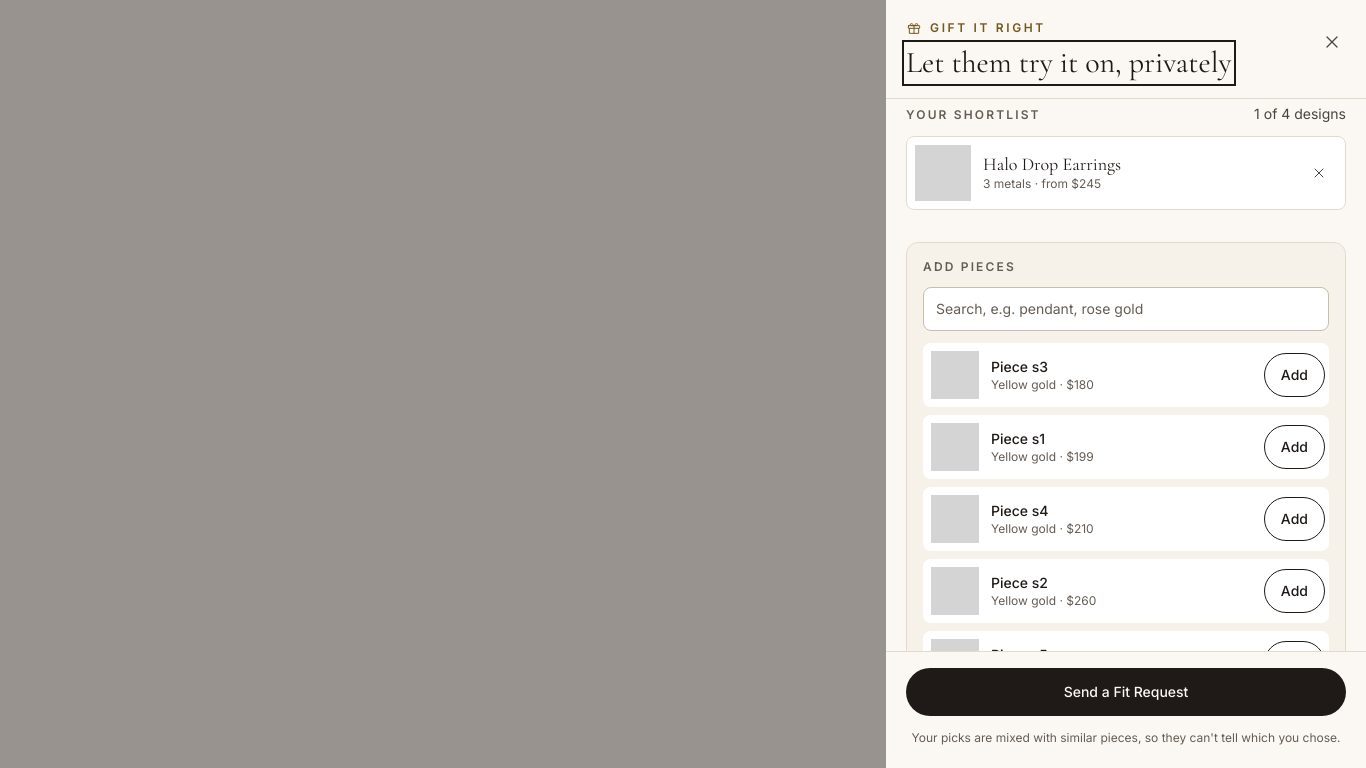
Test: GiverPanel: I have ideas › caps the shortlist at 4 designs
The image size is (1366, 768).
(page scrolled)
Click the button with test id "add-to-shortlist": (1294, 374) [1264,352,1325,396]
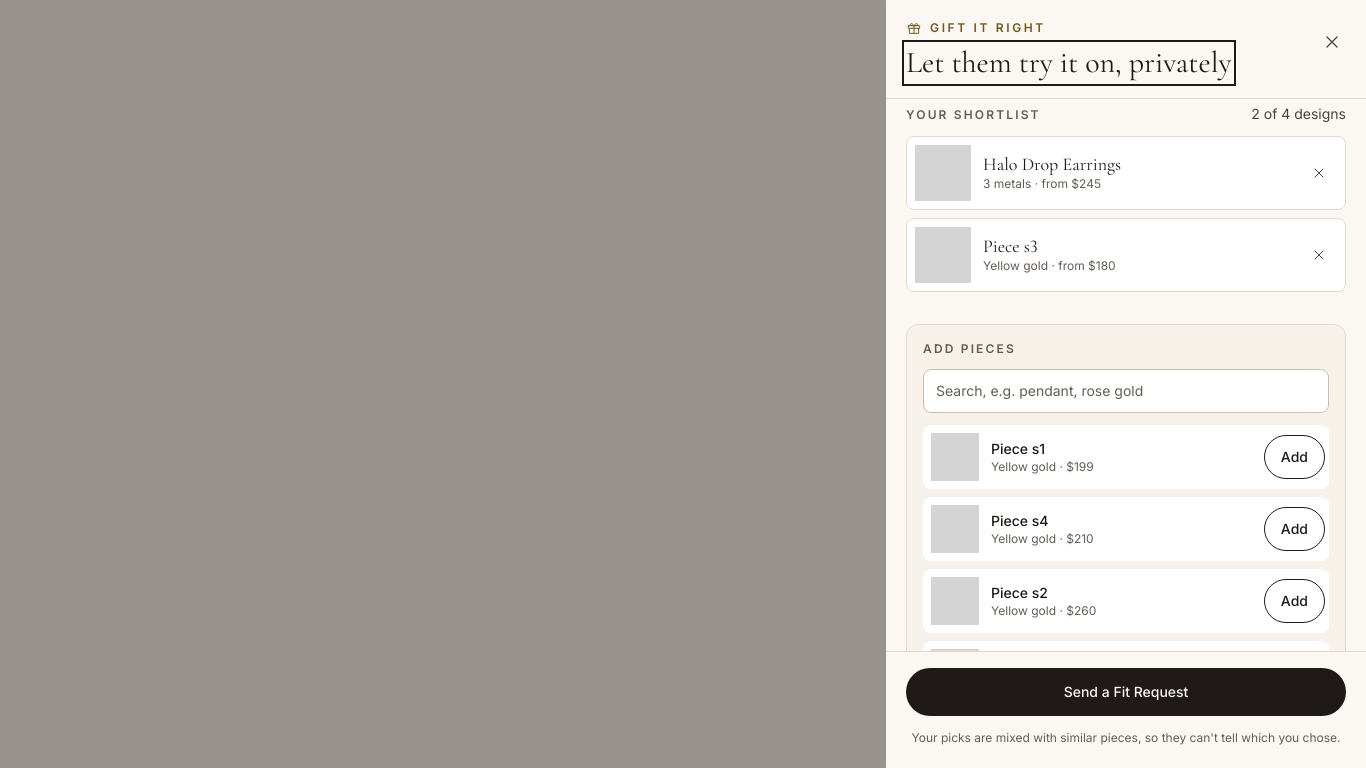
Click the button with test id "add-to-shortlist": (1294, 456) [1264,434,1325,478]
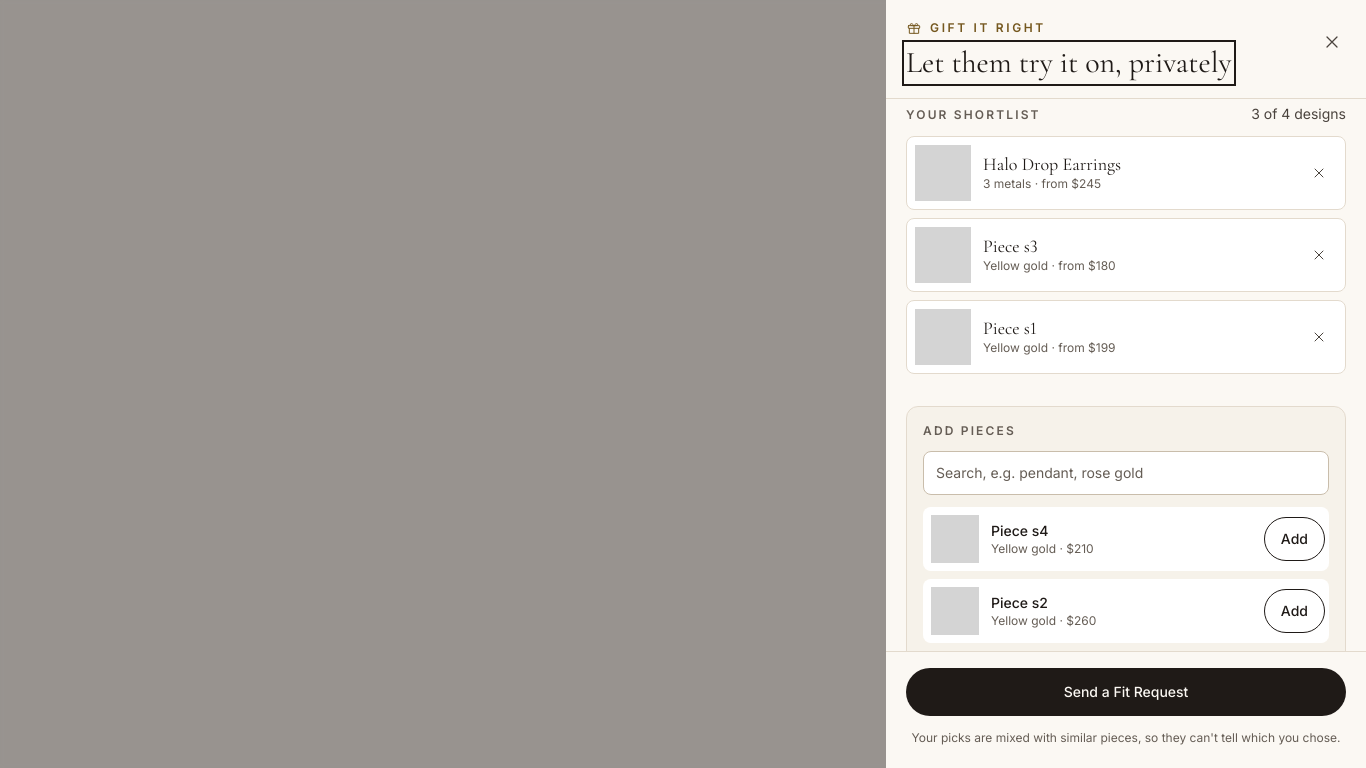
Click the button with test id "add-to-shortlist": (1294, 538) [1264,516,1325,560]
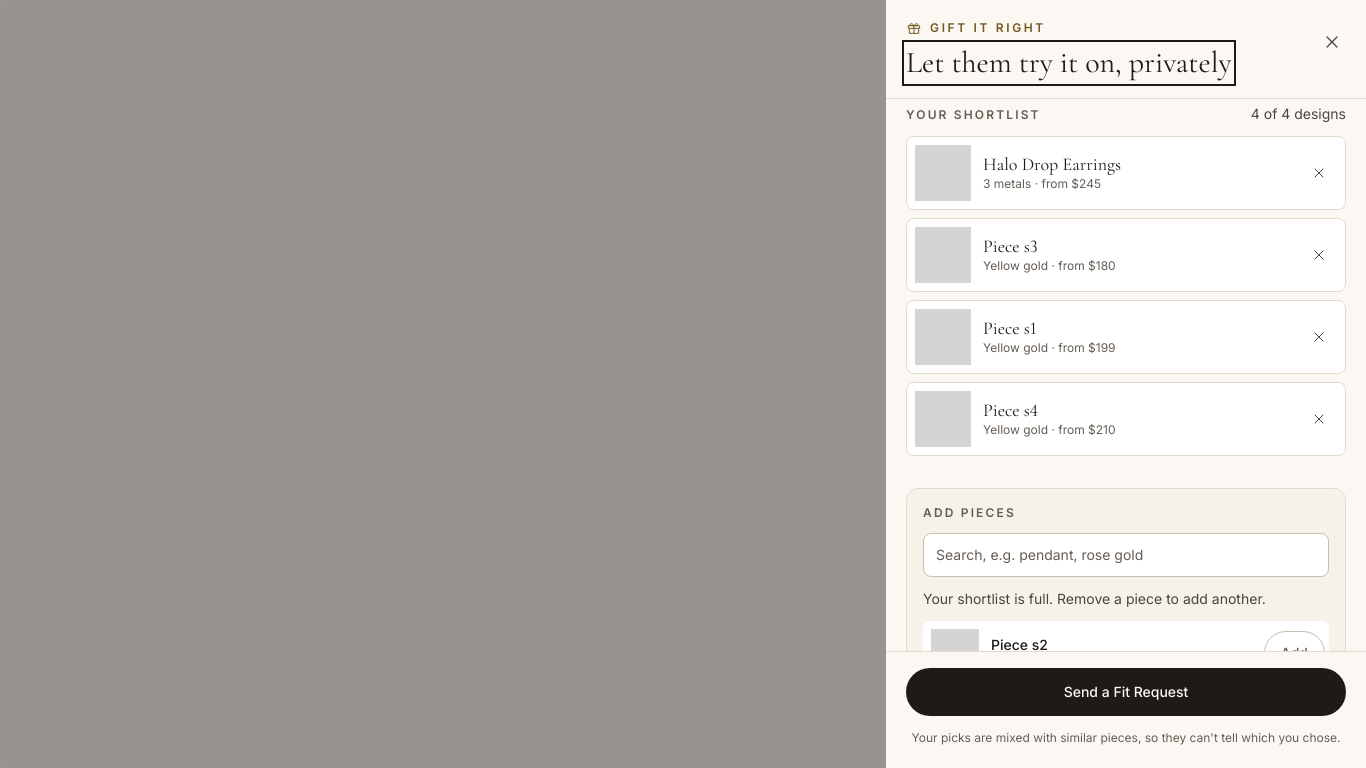
Expected: the text with test id "shortlist-count" reads "4 of 4 designs", [1251,104,1346,124]
Expected: the text "Your shortlist is full. Remove a piece to add another." is shown, [923,590,1266,606]
